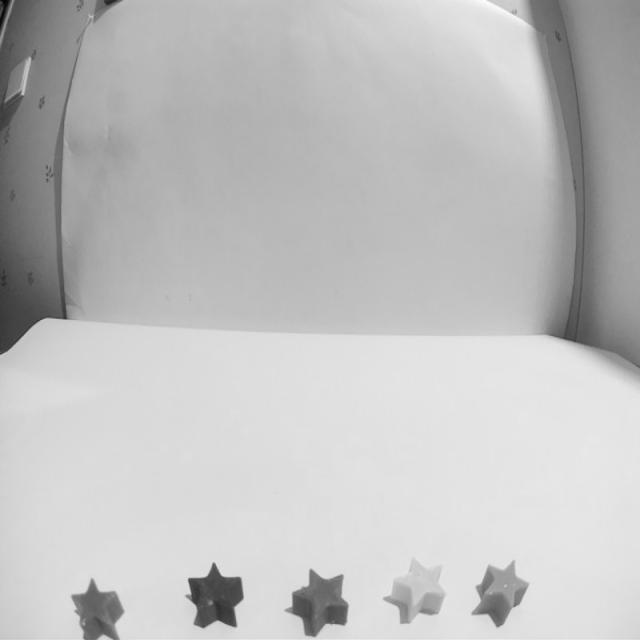star: (285, 567, 350, 637), (384, 556, 448, 624), (472, 558, 530, 627), (185, 562, 244, 628), (69, 576, 127, 640)
